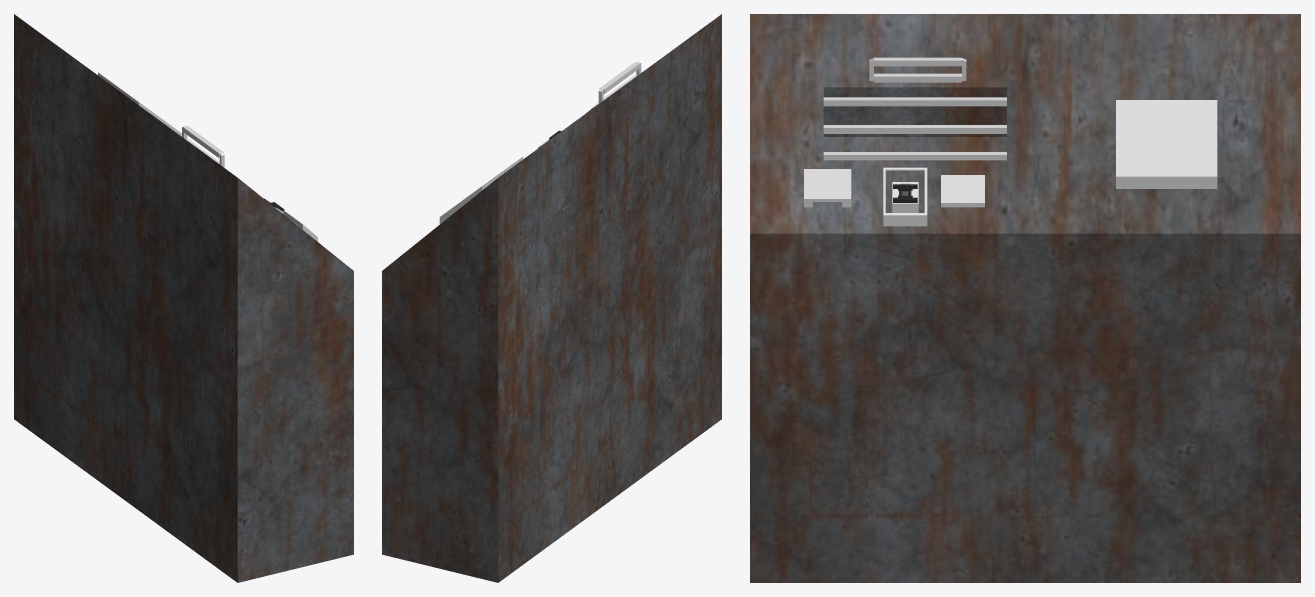
Rendered from fuse_console.glb.
3 views of the same model, side by side, from view 1: azimuth 30°, elevation 25°; view 2: azimuth 150°, elevation 25°; view 3: azimuth 270°, elevation 25° (orthographic). The views are drawn at different scales.
Parts seen in each view (by area): view 1: Prop.fuse_console; view 2: Prop.fuse_console; view 3: Prop.fuse_console.
Boxes of the visible parts, box(x1,y1,x2,y2) form: Prop.fuse_console: box(14, 14, 353, 582); Prop.fuse_console: box(382, 14, 721, 582); Prop.fuse_console: box(750, 14, 1300, 582).
Size of the model in its own units: 0.3 by 1 by 1.
3 materials, 1 textured.
